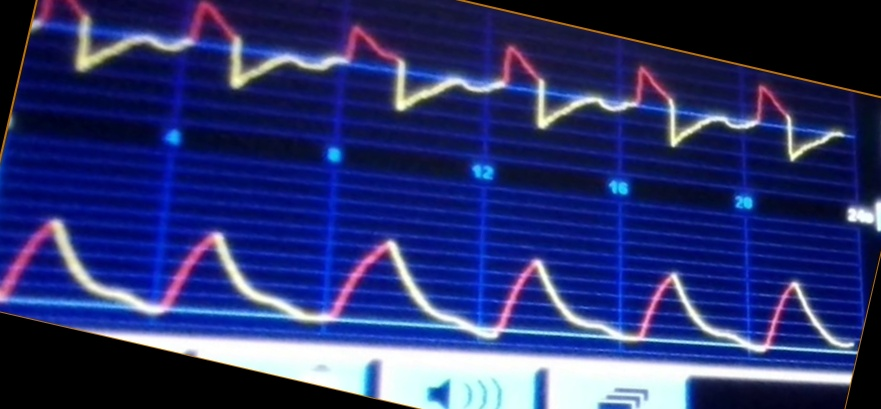Ineffective_effort Flow: (35, 3, 843, 161)
Ineffective_effort Volume: (4, 208, 853, 352)
